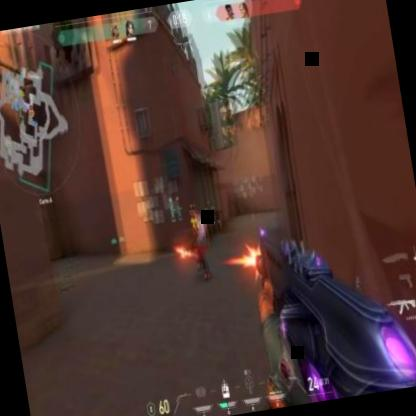enemy: (183, 200, 216, 280)
enemy_head: (188, 202, 197, 219)
